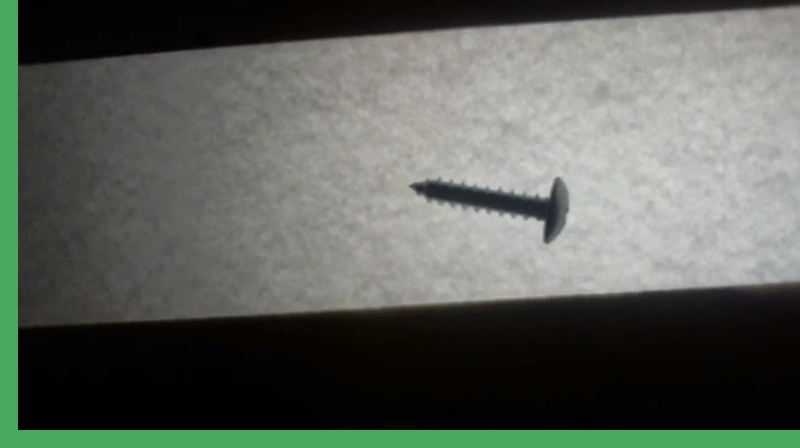S003: (408, 174, 573, 247)
